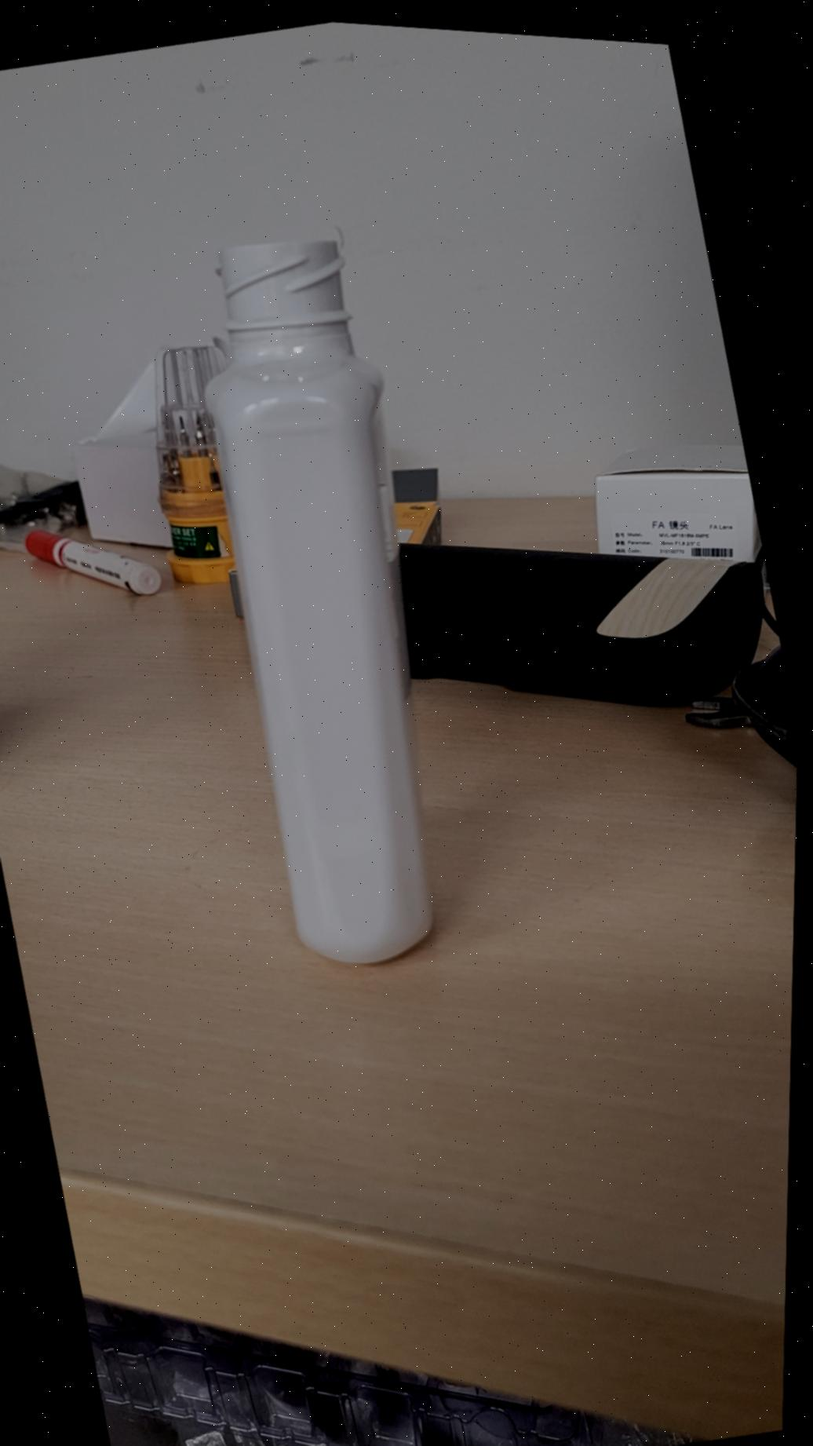bottle: (207, 239, 433, 963)
